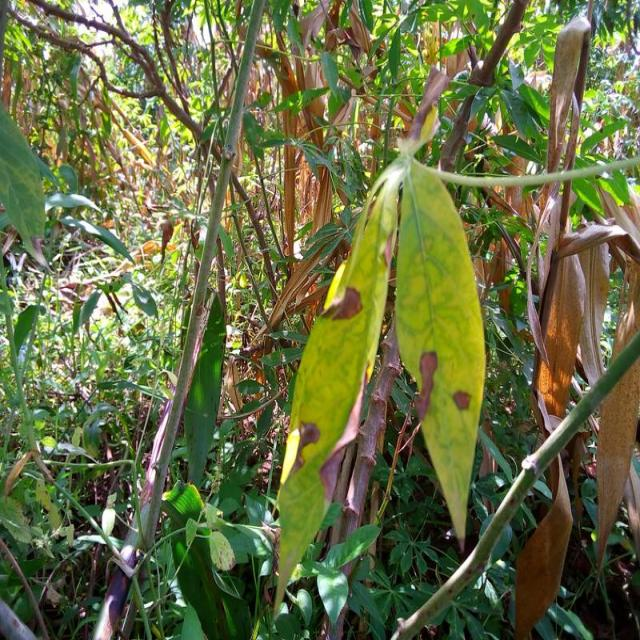cassava leaf: (272, 158, 402, 616), (393, 154, 486, 544)
